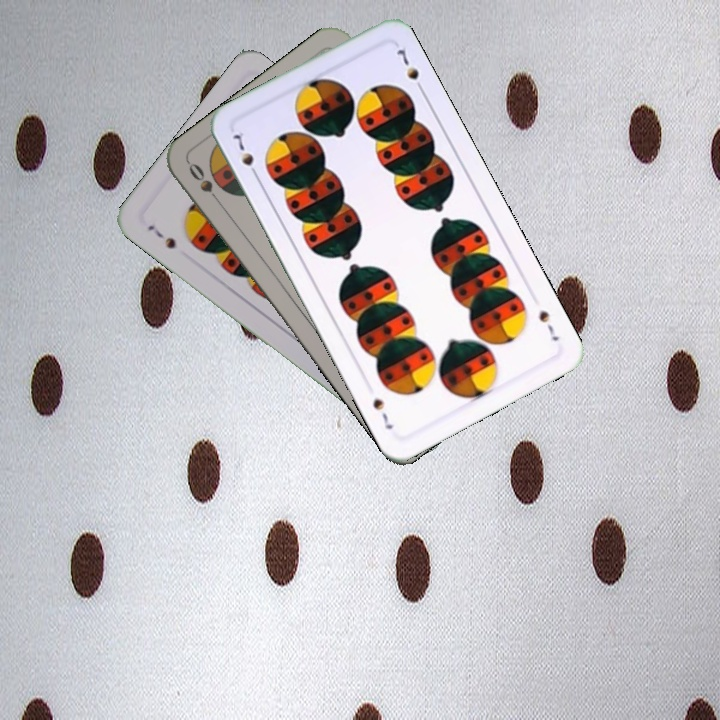S7: (228, 128, 262, 182), (143, 221, 179, 252), (534, 305, 562, 344)
SO: (184, 158, 226, 210)
